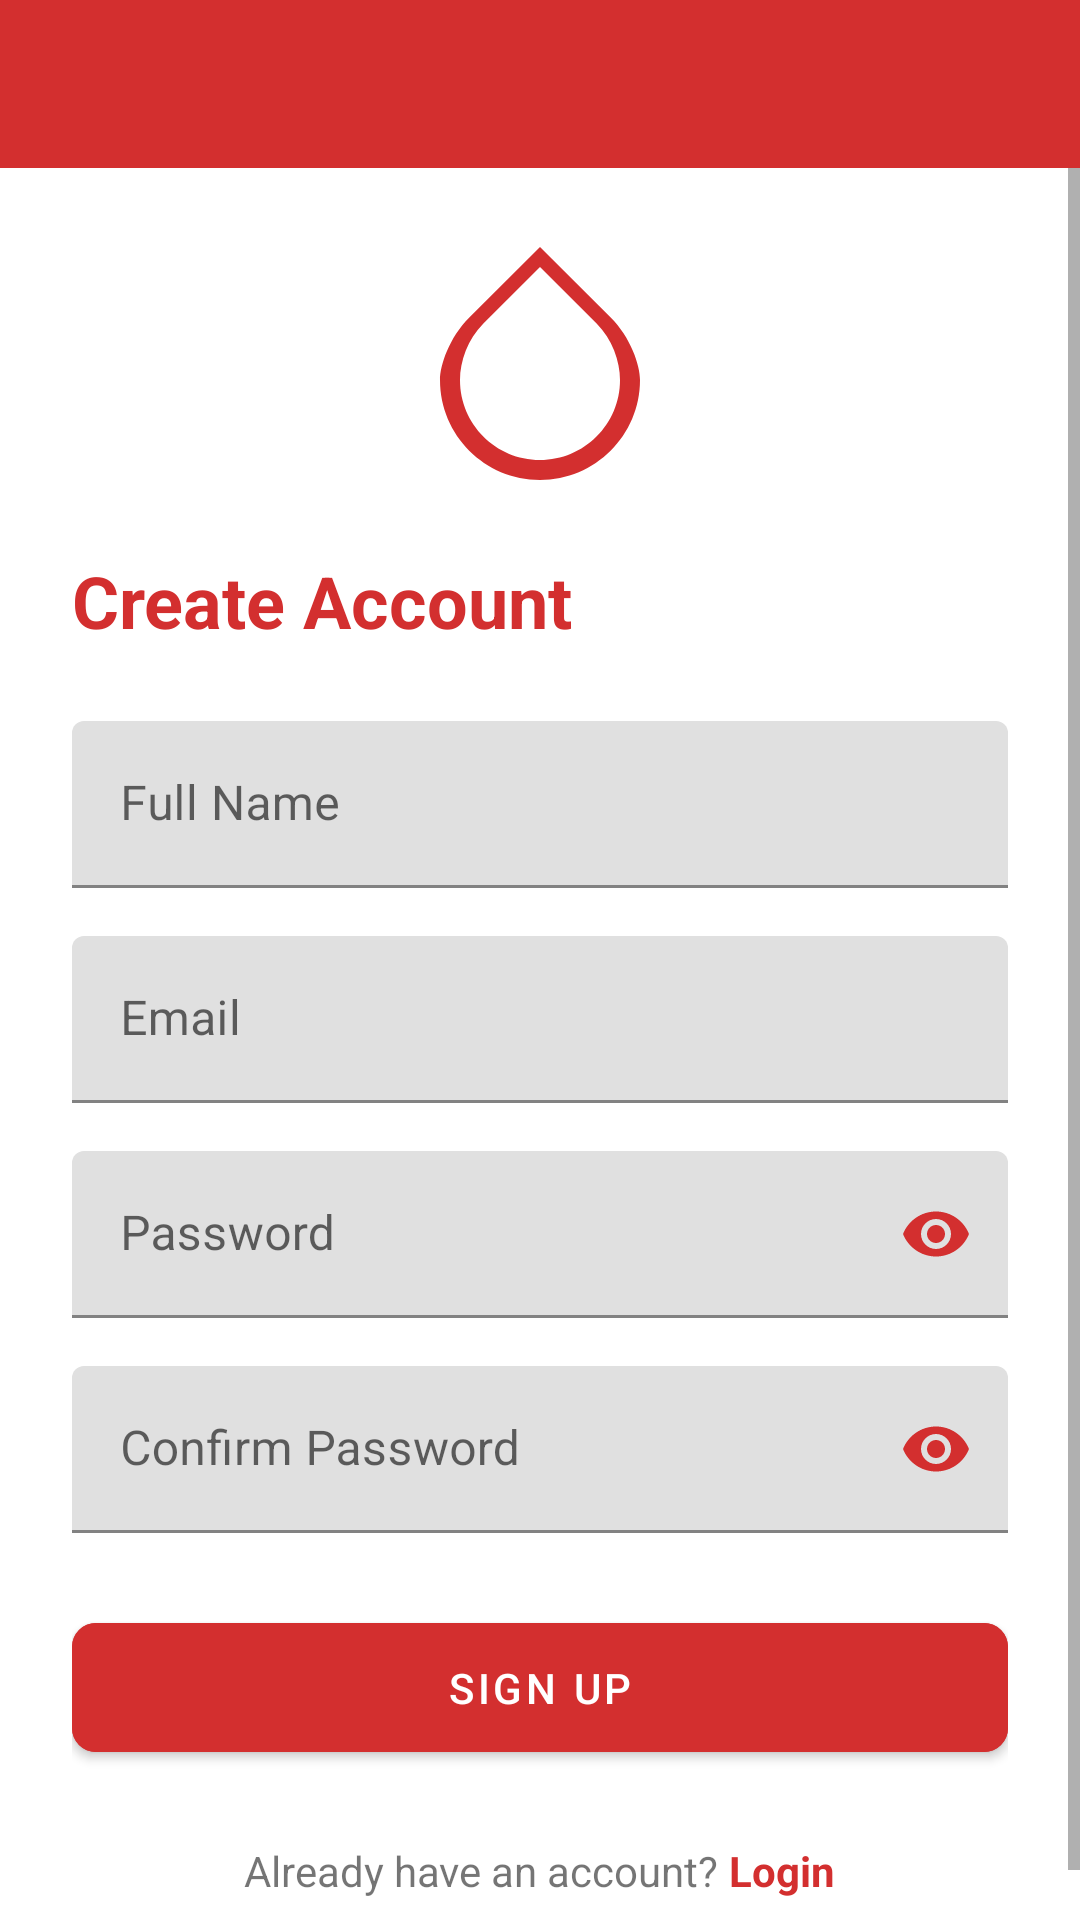

Icons on this 1080x1920 Android screen, each with the point to tap as (x=x, y=y):
blood drop: (x=540, y=363)
